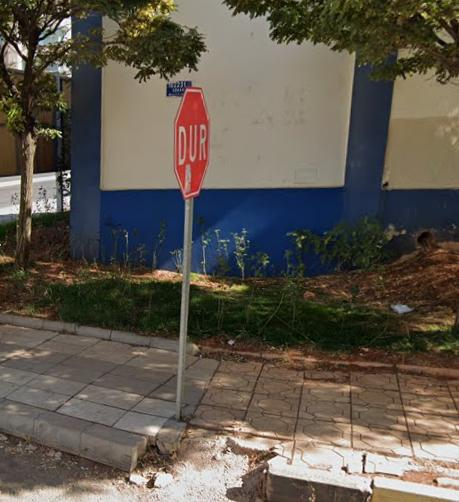stop: (176, 87, 211, 198)
